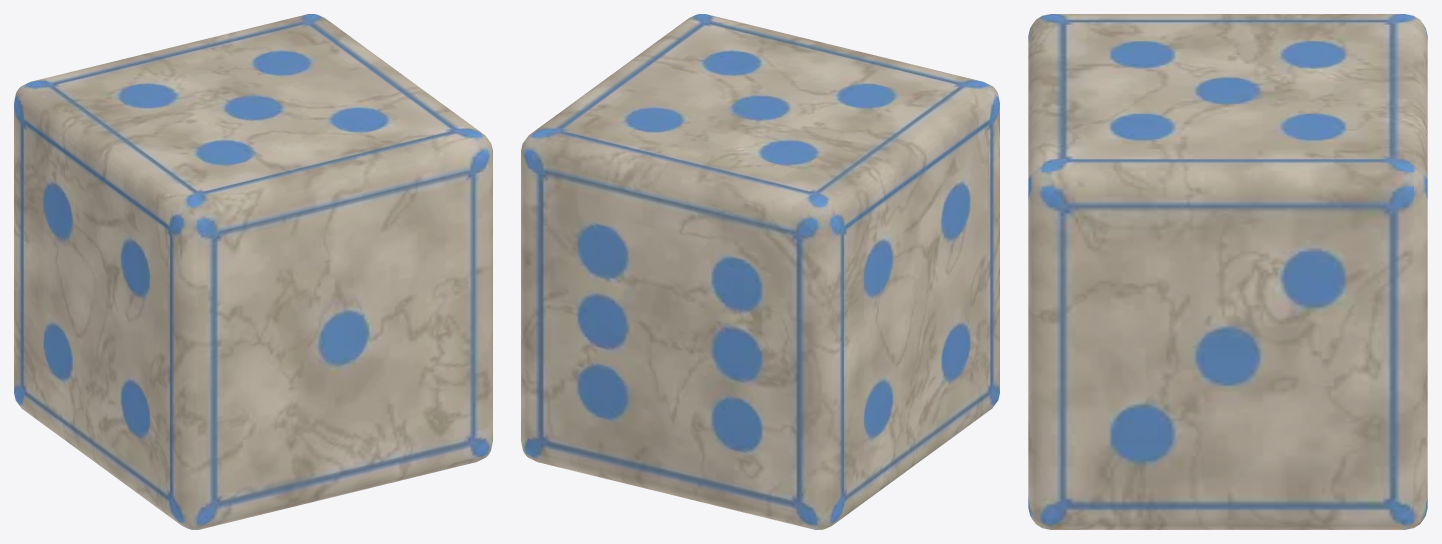
The model's file is ayleid-d6.glb.
The picture shows the model from 3 angles, left to right: view 1: azimuth 30°, elevation 25°; view 2: azimuth 150°, elevation 25°; view 3: azimuth 270°, elevation 25°; orthographic projection. The views are drawn at different scales.
Visible parts, largest first — view 1: ayleid_d6; view 2: ayleid_d6; view 3: ayleid_d6.
Part boxes in pixels (left/top/right/bottom): ayleid_d6: left=14, top=14, right=492, bottom=529; ayleid_d6: left=521, top=14, right=999, bottom=529; ayleid_d6: left=1028, top=14, right=1427, bottom=529.
Size of the model in its own units: 1.4 by 1.4 by 1.4.
1 material, 1 textured.
